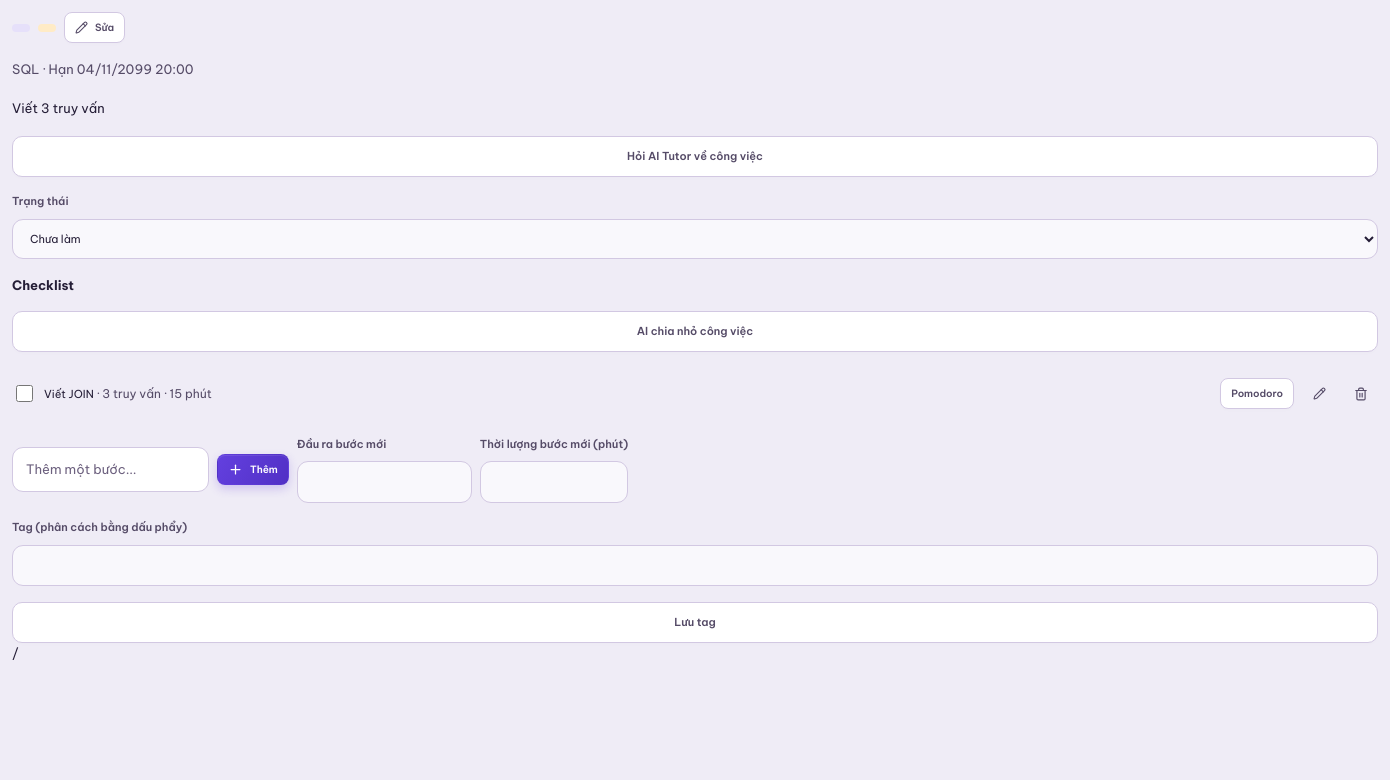
Test case: Reviewed AI proposals and source context › opens Pomodoro from a stored checklist step with its output and duration
Click the button "Pomodoro". click: (1257,394)
box: top-left (1220, 378), bottom-right (1294, 409)
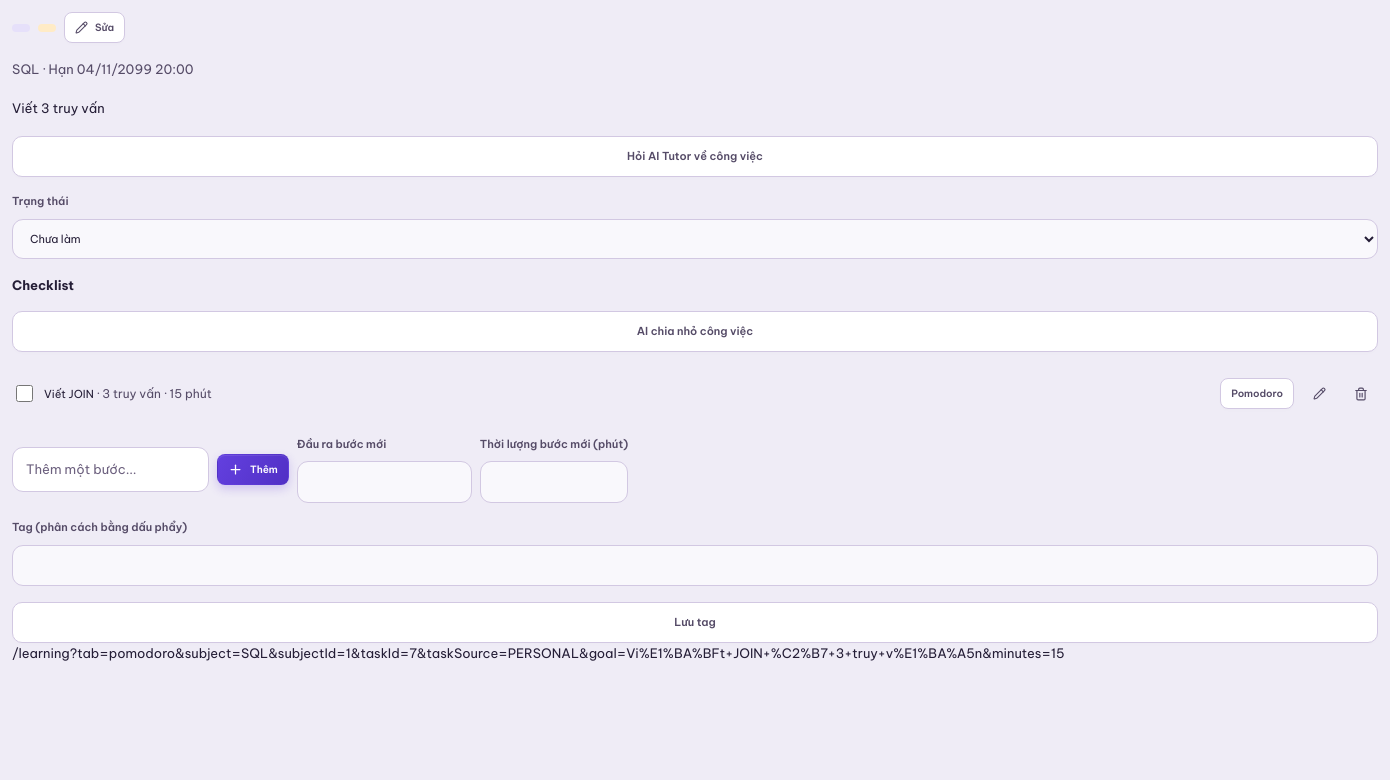
Expected: the text named "Đường dẫn" shows "/learning?tab=pomodoro", top-left (12, 645), bottom-right (1064, 661)
Expected: the text named "Đường dẫn" shows "minutes=15", top-left (12, 645), bottom-right (1064, 661)
